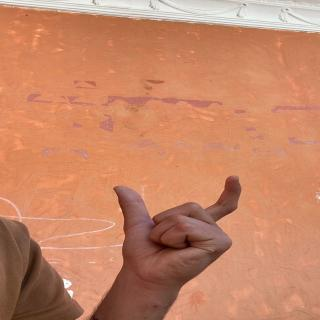NOON: (109, 169, 252, 270)
